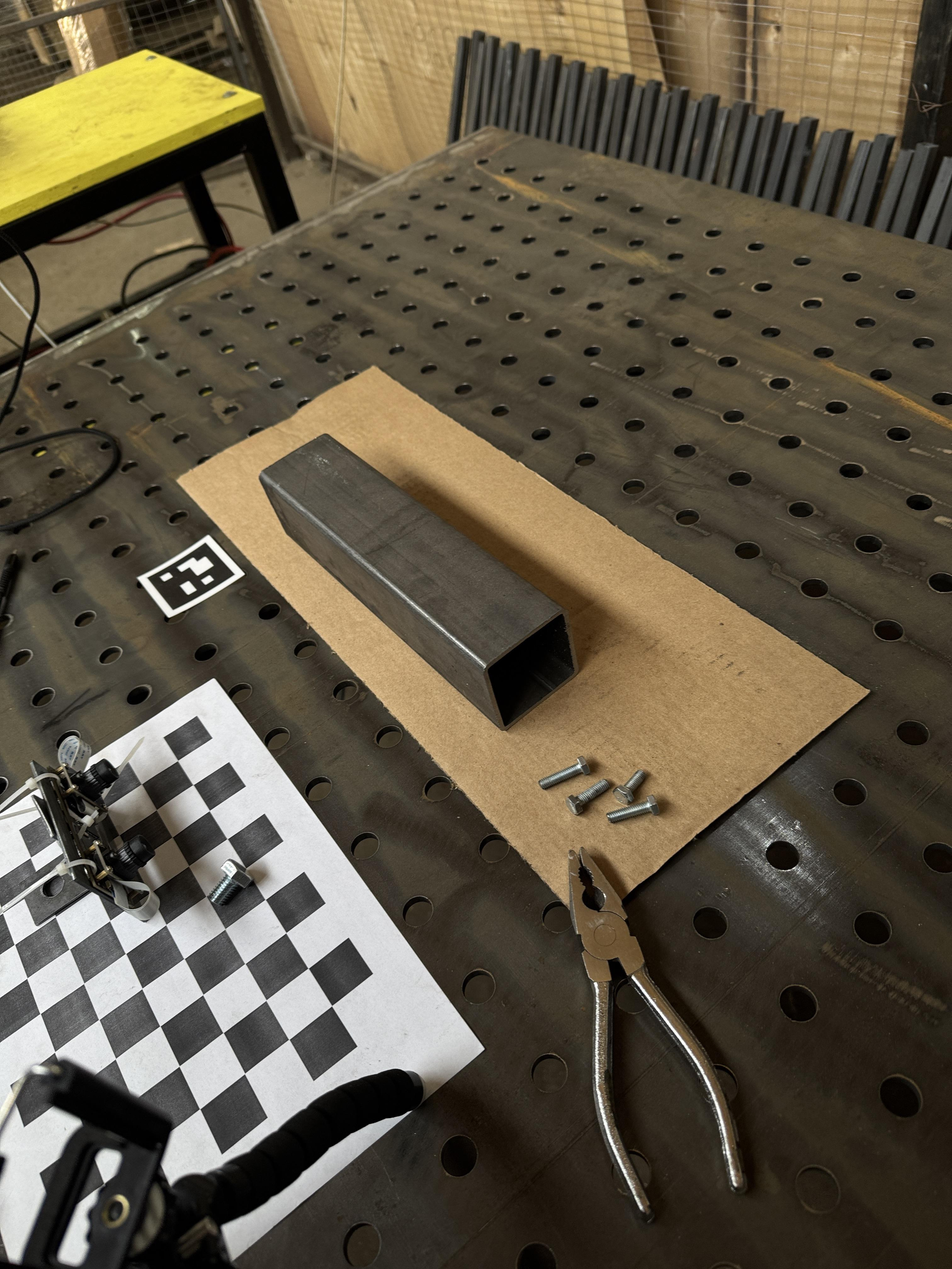detail: (259, 434, 579, 731)
